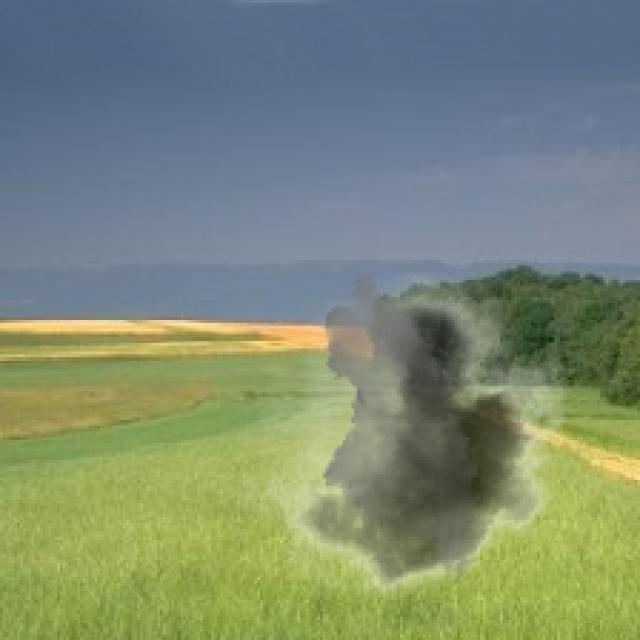Smoke: (228, 272, 586, 614)
